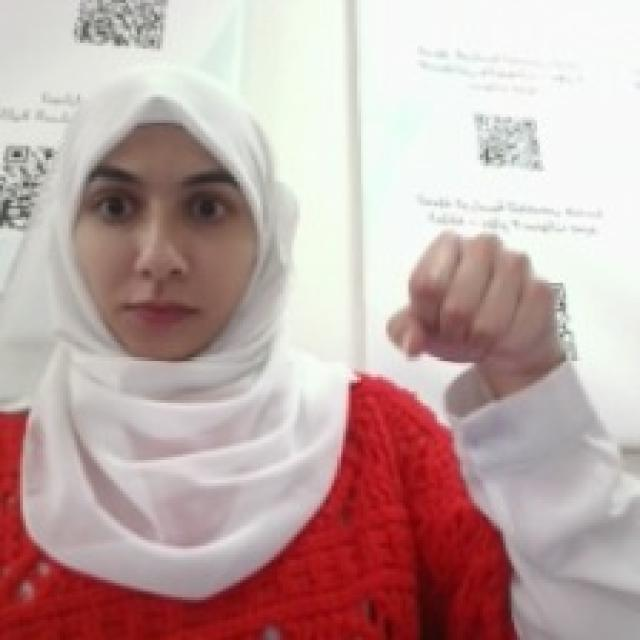yes: (380, 217, 566, 369)
